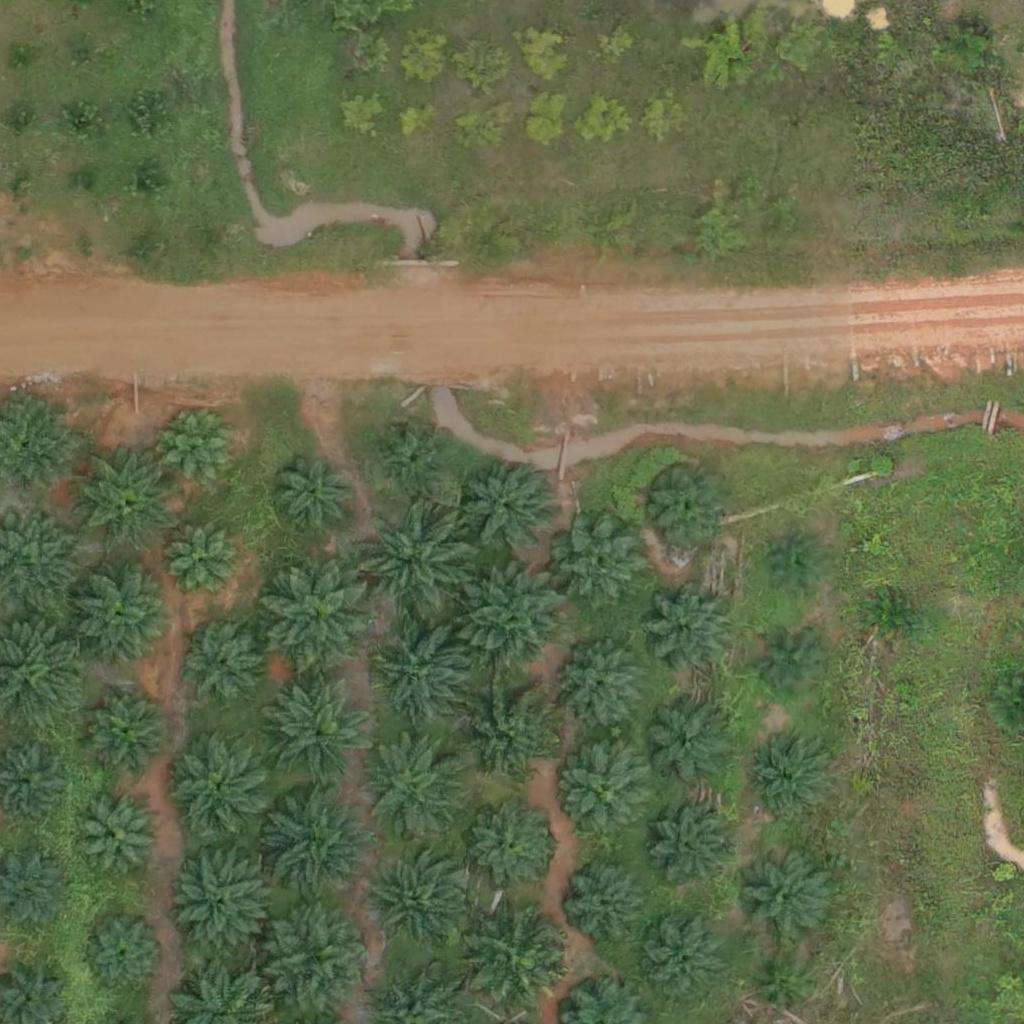Kelapa_Sawit: (361, 492, 486, 617), (263, 556, 376, 669), (268, 675, 381, 788), (262, 784, 375, 897), (262, 902, 374, 1016), (75, 447, 175, 548), (376, 622, 476, 723), (366, 737, 466, 838), (366, 858, 466, 959), (464, 568, 564, 669), (456, 684, 556, 785), (470, 907, 570, 1008), (75, 567, 175, 667), (172, 734, 272, 834), (175, 848, 275, 948), (562, 746, 650, 835), (465, 466, 553, 554), (466, 801, 554, 889), (562, 858, 650, 946), (745, 733, 833, 821), (272, 452, 359, 541), (160, 405, 247, 493), (83, 911, 170, 999), (556, 520, 643, 608), (558, 645, 645, 733), (646, 587, 733, 675), (644, 700, 731, 788), (644, 802, 731, 890), (638, 920, 725, 1008), (745, 852, 832, 940), (651, 466, 726, 542), (88, 696, 163, 772), (83, 800, 158, 876), (190, 629, 265, 705), (165, 522, 240, 597), (762, 632, 824, 695), (385, 429, 447, 492), (863, 586, 925, 648), (758, 962, 808, 1013), (772, 542, 822, 592)
